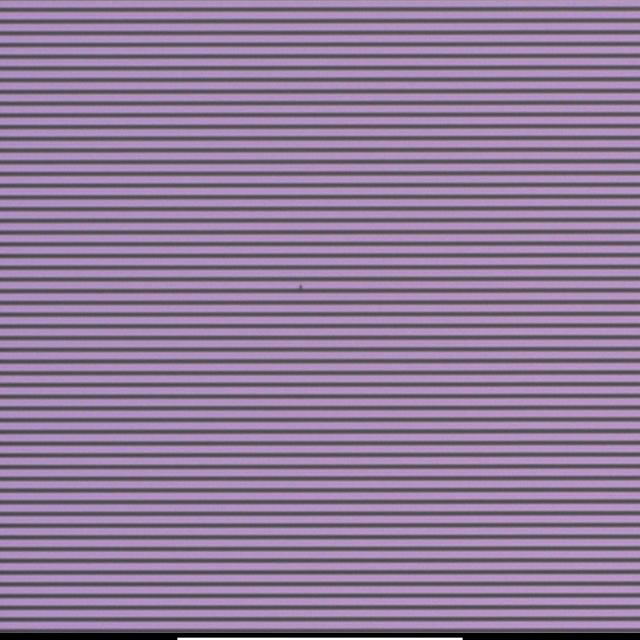nonvisual: (295, 282, 306, 293)
